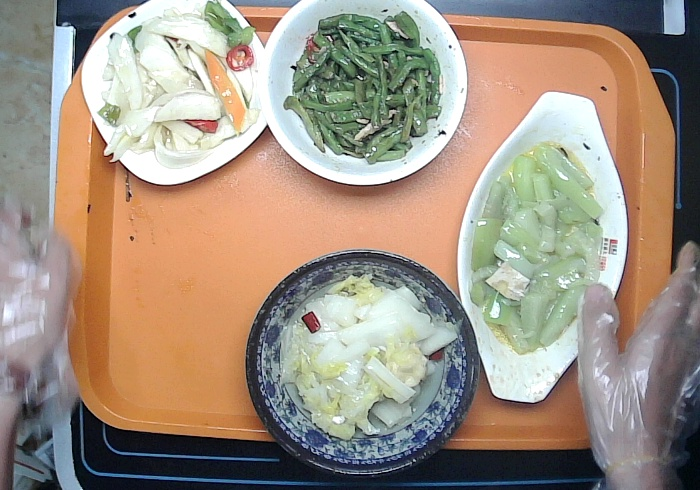ZNLD-Qing_Hua_Wan: (238, 245, 479, 481)
ZNLD-Si_Fang_Wan: (78, 1, 273, 190)
ZNLD-Tang_Wan: (254, 1, 472, 189)
ZNLD-Yu_Pan: (452, 86, 631, 407)
